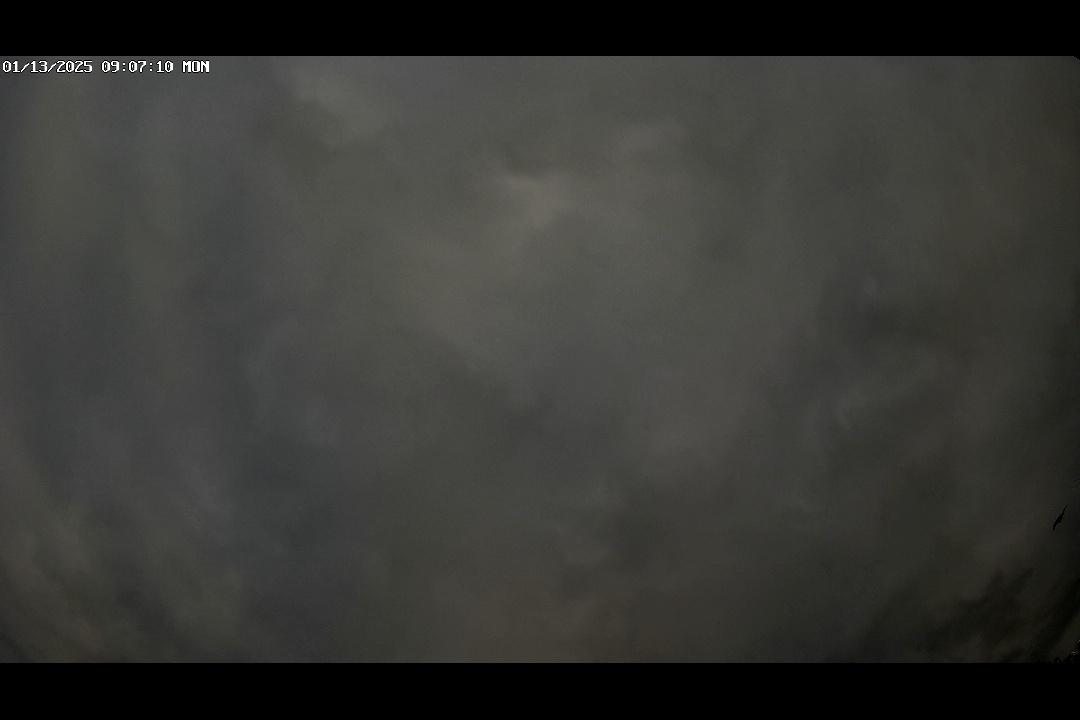WildLife: (1040, 500, 1072, 534)
